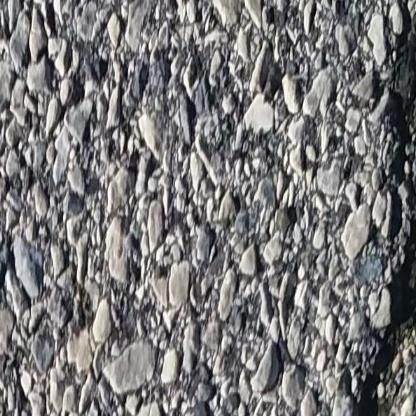Cracks: (344, 0, 416, 416)
